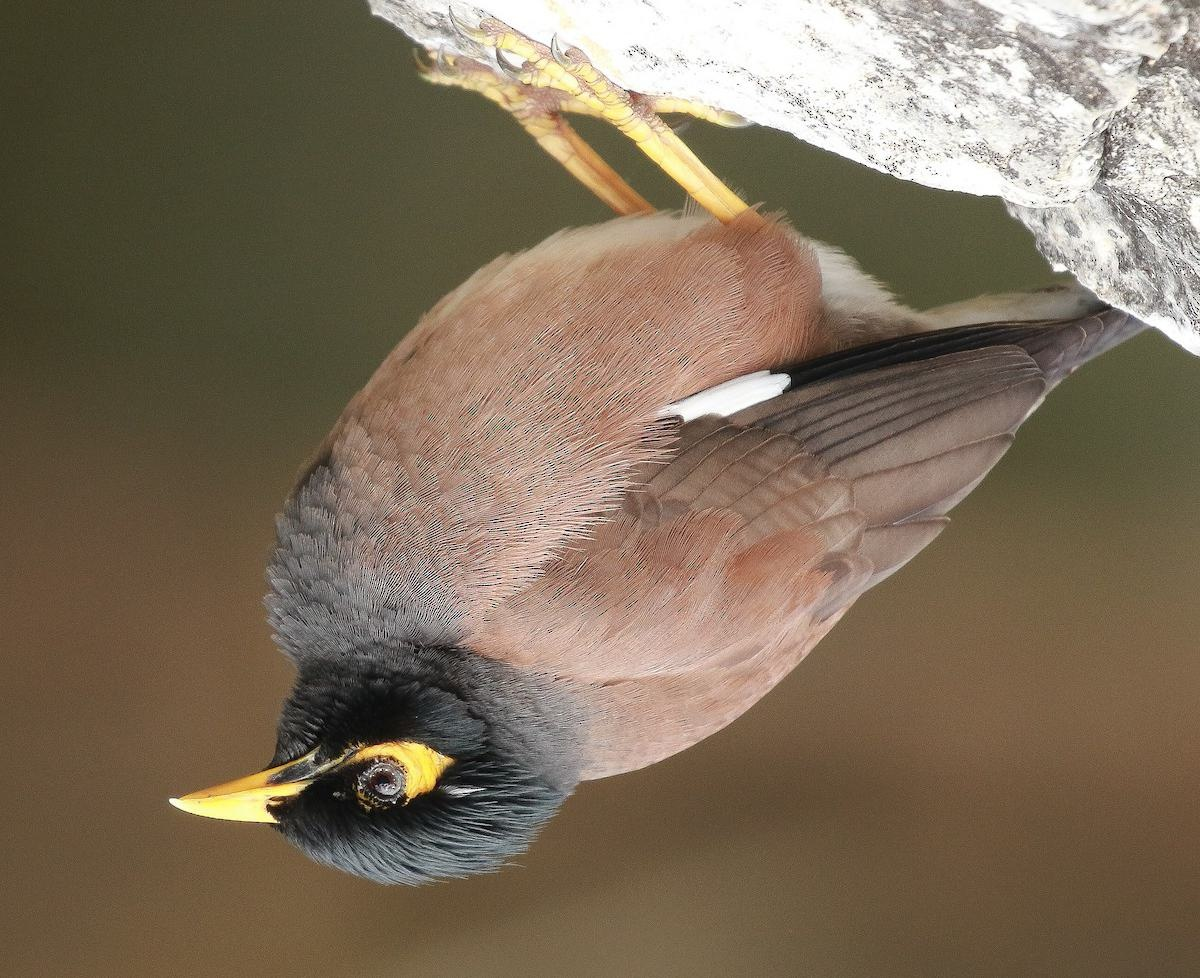myna: (149, 109, 1130, 909)
